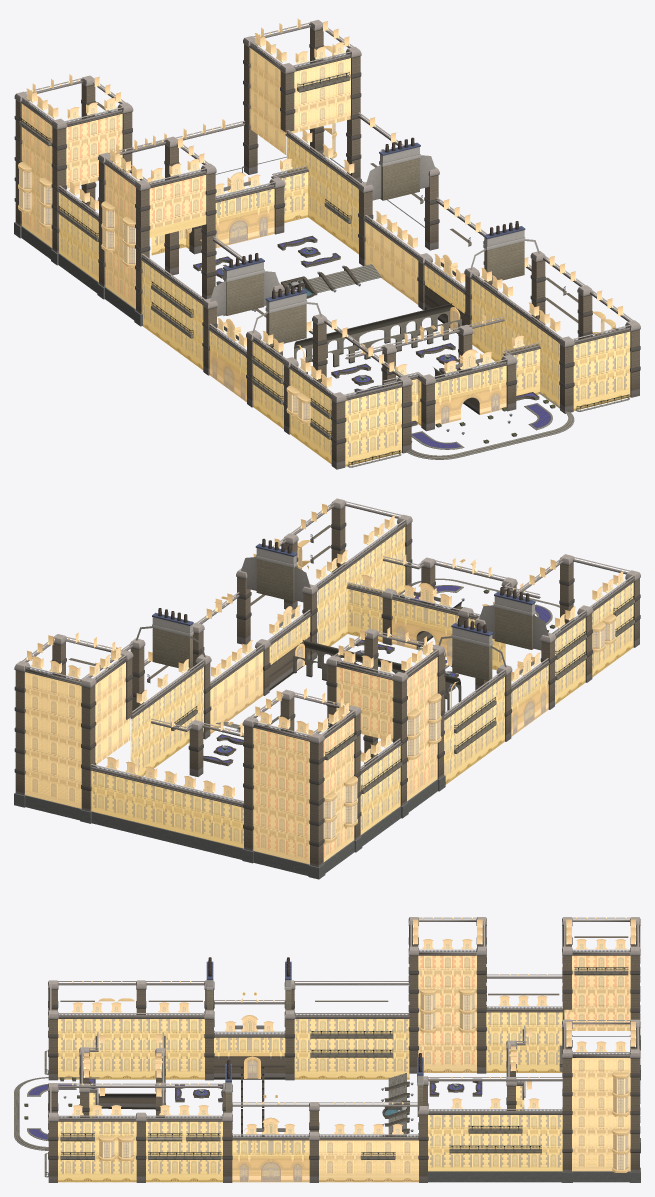
Rendered from t1_b_school.glb.
The picture shows the model from 3 angles, top to bottom: view 1: azimuth 30°, elevation 25°; view 2: azimuth 150°, elevation 25°; view 3: azimuth 270°, elevation 25°; orthographic projection. The views are drawn at different scales.
Parts seen in each view (by area): view 1: t1_b_school_building; view 2: t1_b_school_building; view 3: t1_b_school_building.
Part boxes in pixels (bbox=[...]): t1_b_school_building: bbox=[14, 18, 640, 469]; t1_b_school_building: bbox=[14, 498, 640, 879]; t1_b_school_building: bbox=[14, 917, 640, 1182].
Bounding box in the file's own units: 62.07 × 28.71 × 116.
11 materials, 11 textured.
